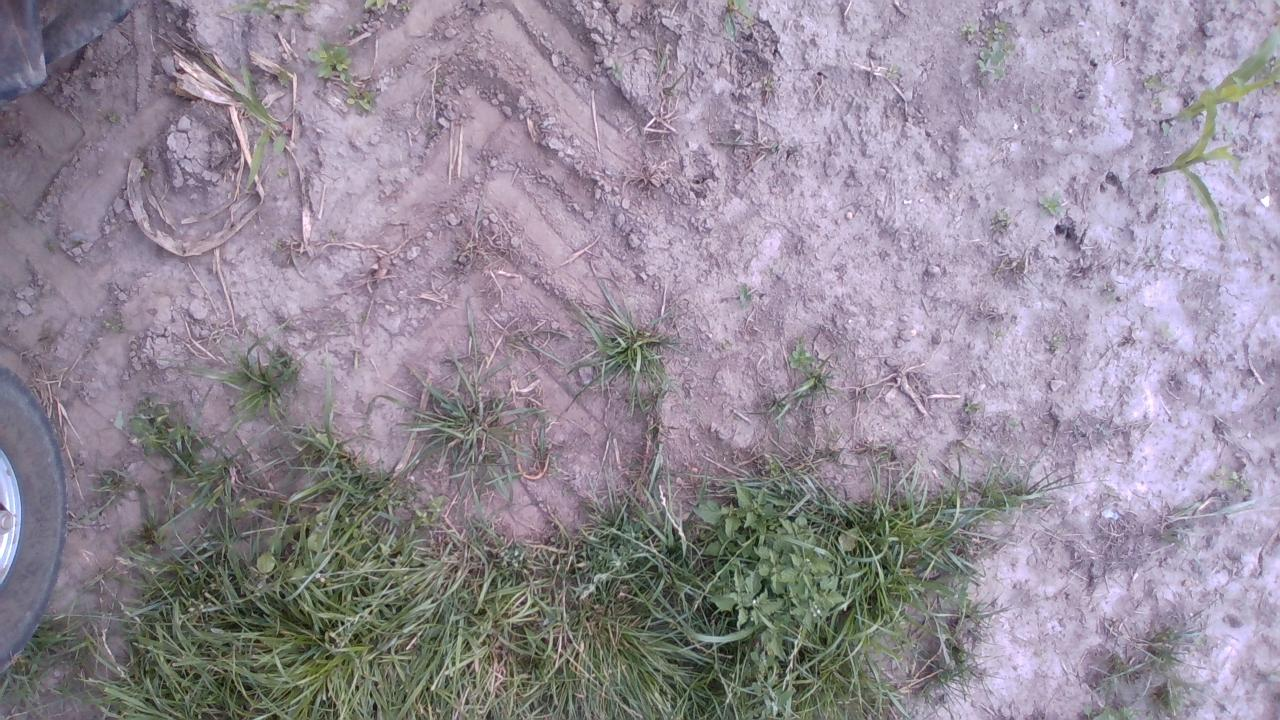Maize: (1154, 21, 1280, 132), (1150, 94, 1243, 241), (221, 62, 299, 194)
Weeds: (304, 37, 362, 86), (972, 43, 1006, 85), (1037, 186, 1071, 221), (787, 338, 817, 373), (98, 312, 128, 340), (344, 92, 381, 114), (602, 58, 628, 87), (734, 280, 759, 310), (963, 20, 988, 48), (991, 18, 1013, 48), (291, 1, 317, 20), (276, 69, 300, 88)
